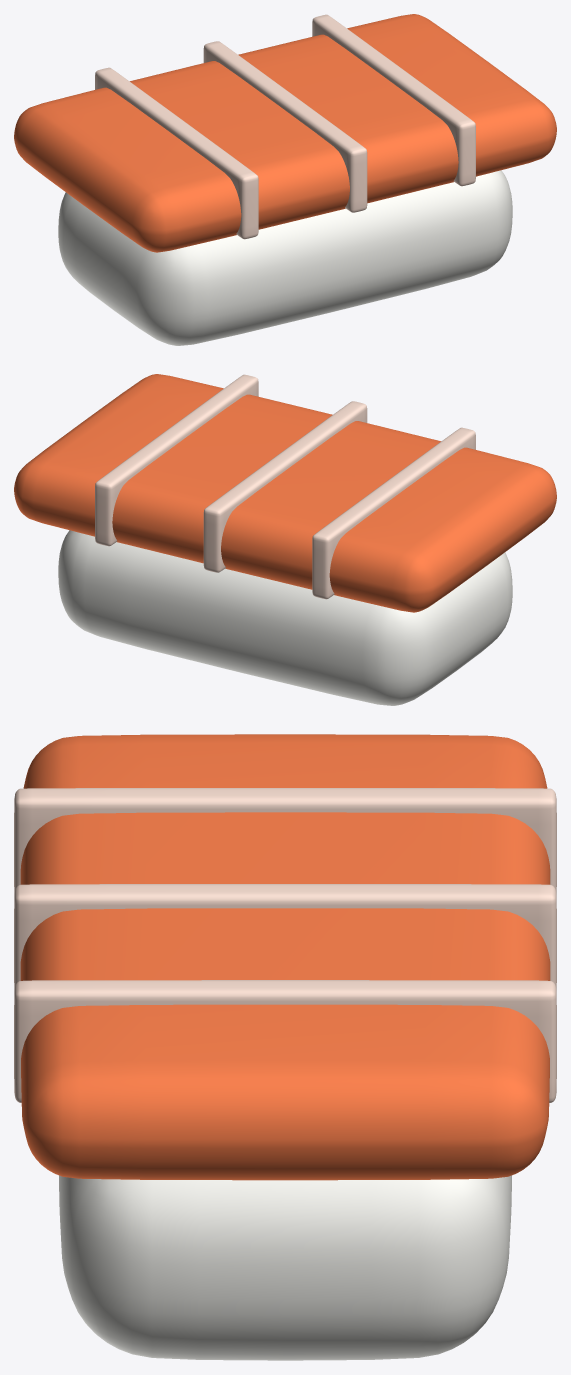
Rendered from Hat_Sushi.glb.
The picture shows the model from 3 angles, top to bottom: view 1: azimuth 30°, elevation 25°; view 2: azimuth 150°, elevation 25°; view 3: azimuth 270°, elevation 25°; orthographic projection. The views are drawn at different scales.
Parts seen in each view (by area): view 1: Cube.001, Cube, Cube.003, Cube.002, Cube.004; view 2: Cube.001, Cube, Cube.003, Cube.002, Cube.004; view 3: Cube.001, Cube, Cube.004, Cube.002, Cube.003.
Part boxes in pixels (<box>): Cube.001: <box>14,14,556,252</box>; Cube: <box>58,170,512,345</box>; Cube.003: <box>203,41,367,212</box>; Cube.002: <box>95,67,258,239</box>; Cube.004: <box>312,14,475,186</box>; Cube.001: <box>14,374,556,612</box>; Cube: <box>58,530,512,705</box>; Cube.003: <box>203,401,367,572</box>; Cube.002: <box>312,427,475,599</box>; Cube.004: <box>95,374,258,546</box>; Cube.001: <box>20,734,550,1180</box>; Cube: <box>59,1175,511,1360</box>; Cube.004: <box>14,980,556,1102</box>; Cube.002: <box>14,788,556,893</box>; Cube.003: <box>14,884,556,990</box>.
Size of the model in its own units: 0.6996 by 0.2996 by 0.4299.
